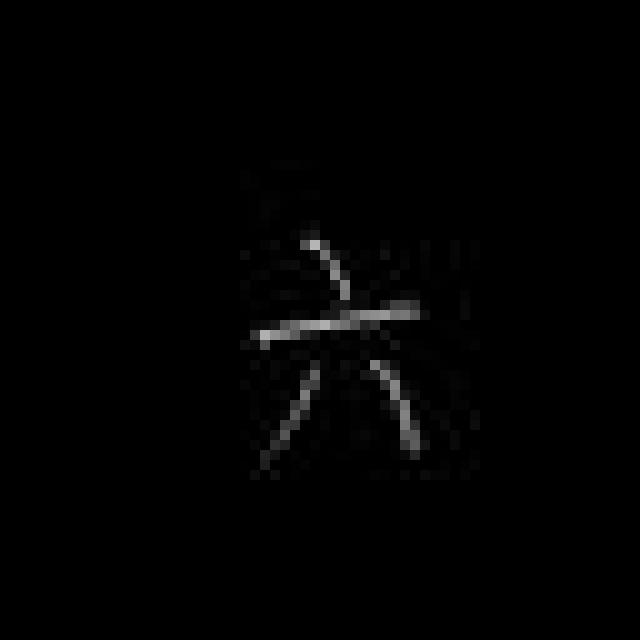6 -six-: (241, 234, 440, 468)
